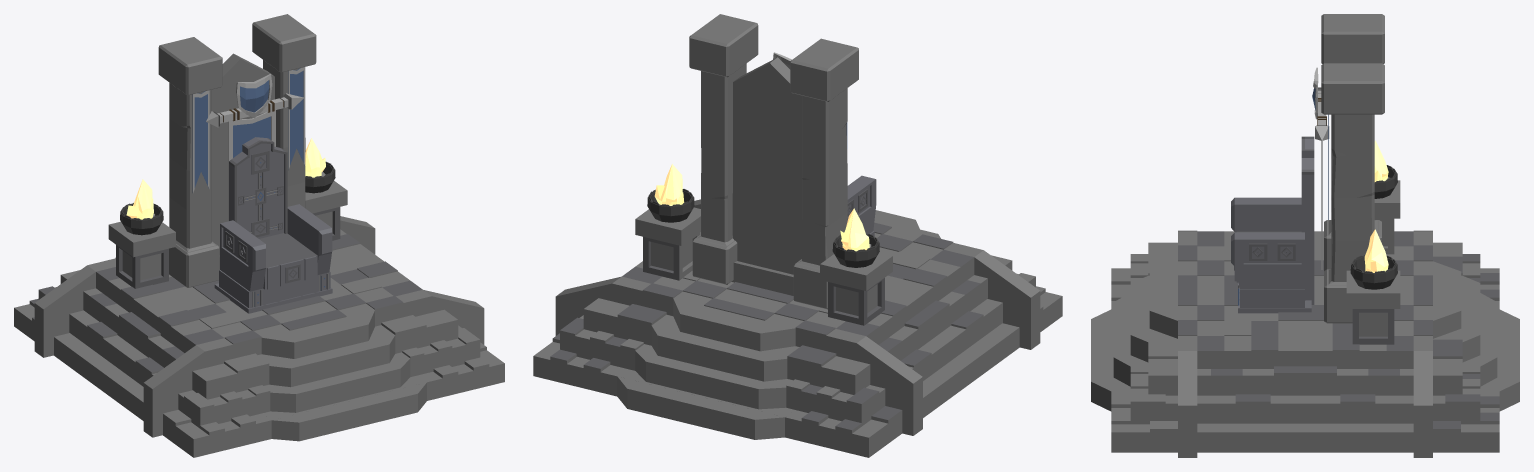
Rendered from throne.fbx.
3 views of the same model, side by side, from view 1: azimuth 30°, elevation 25°; view 2: azimuth 150°, elevation 25°; view 3: azimuth 270°, elevation 25° (orthographic). The views are drawn at different scales.
Visible parts, largest first — view 1: Cube.010; view 2: Cube.010; view 3: Cube.010.
Part boxes in pixels (x1,y1,x2,y2): Cube.010: (14,14,504,457); Cube.010: (533,14,1062,457); Cube.010: (1091,14,1519,457).
Size of the model in its own units: 853 by 734 by 883.
